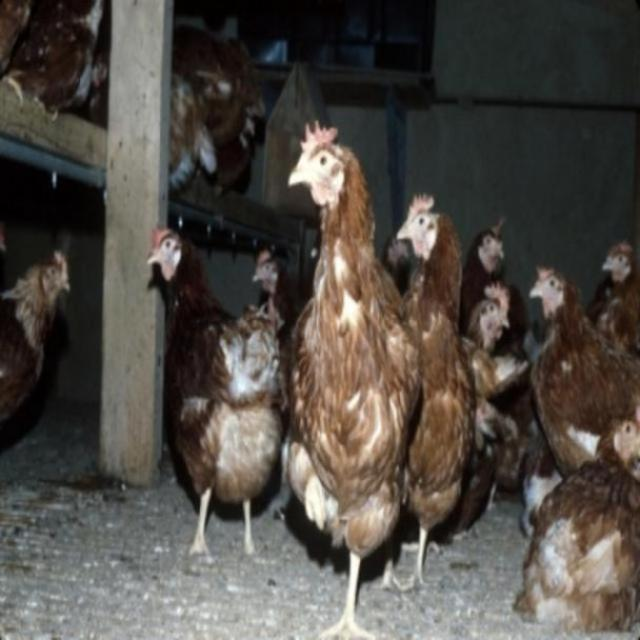Chicken: (148, 118, 639, 635), (0, 251, 69, 420)
